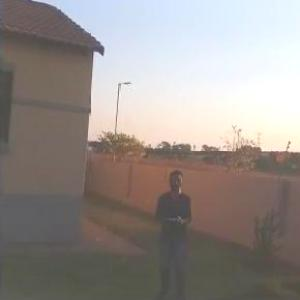follow: (150, 164, 197, 299)
